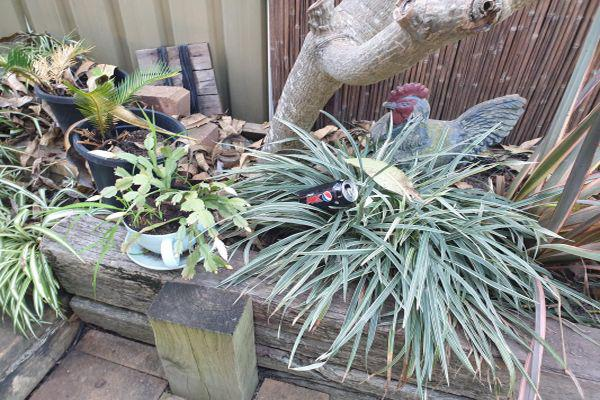Plastic Bottle: (299, 180, 359, 208)
